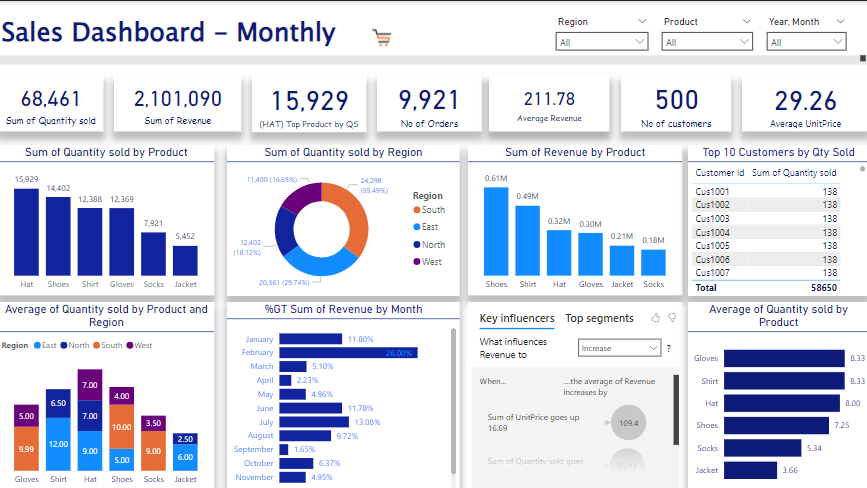

Layout of this report page (visuals, bound fields, positions):
{"tool":"powerbi","page":{"name":"Page 1","canvas":[1280,720],"ordinal":0},"visuals":[{"type":"textbox","title":"Sales Dashboard - Monthly","box":[17.6,19.1,1246,94],"z":0},{"type":"card","fields":{"Values":["Sum(Sheet1.Quantity sold)"]},"box":[17.6,113.1,248.3,107.3],"z":1000},{"type":"card","fields":{"Values":["Sum(Sheet1.Revenue)"]},"box":[288,114.6,227.8,105.8],"z":2000},{"type":"card","fields":{"Values":["CountNonNull(Sheet1.OrderID)"]},"box":[756.7,114.6,249.8,105.8],"z":3000},{"type":"clusteredColumnChart","fields":{"Category":["Sheet1.Product"],"Y":["Sum(Sheet1.Quantity sold)"]},"box":[17.6,229.2,383.5,230.7],"z":4000},{"type":"areaChart","fields":{"Category":["Sheet1.Region","Sheet1.OrderMonth.Variation.Date Hierarchy.Month","Sheet1.OrderMonth.Variation.Date Hierarchy.Day"],"Y":["Sum(Sheet1.Revenue)"]},"box":[17.6,470.2,498.1,238],"z":5000},{"type":"donutChart","fields":{"Y":["Sum(Sheet1.Quantity sold)"],"Category":["Sheet1.Region"]},"box":[423.2,229.2,396.7,230.7],"z":6000},{"type":"tableEx","title":"Top 10 Customers by Qty Sold","fields":{"Values":["Sheet1.Customer Id","Sum(Sheet1.Quantity sold)"]},"box":[953.6,470.2,310,238],"z":7000},{"type":"clusteredColumnChart","fields":{"Y":["Sum(Sheet1.Revenue)"],"Category":["Sheet1.Product"]},"box":[837.6,229.2,426.1,230.7],"z":8000},{"type":"clusteredBarChart","fields":{"Y":["Avg(Sheet1.Quantity sold)"],"Category":["Sheet1.Product"]},"box":[542.2,470.2,386.4,238],"z":9000},{"type":"slicer","fields":{"Values":["Sheet1.OrderMonth.Variation.Date Hierarchy.Year","Sheet1.OrderMonth.Variation.Date Hierarchy.Month"]},"box":[1116.7,20.6,163.1,61.7],"z":10000},{"type":"slicer","fields":{"Values":["Sheet1.Product"]},"box":[919.8,20.6,196.9,61.7],"z":12000},{"type":"card","fields":{"Values":["Sheet1.Avg Revenue per Product"]},"box":[1018.3,113.1,245.4,107.3],"z":13000},{"type":"slicer","fields":{"Values":["Sheet1.Region"]},"box":[740.6,20.6,179.3,61.7],"z":14000},{"type":"image","box":[506.9,19.1,70.5,61.7],"z":15000},{"type":"card","fields":{"Values":["Sum(Sheet1.Quantity sold)"]},"box":[529.1,114.2,211.7,105.8],"z":15001}]}

Visuals, with their boxes in screenshot pixels (x1, y1, x2, y2), scaled from the page's 1280x720 canvas onto the 867x488 screenshot:
"Sales Dashboard - Monthly" textbox: bbox(12, 13, 856, 77)
card - Sum(Sheet1.Quantity sold): bbox(12, 77, 180, 149)
card - Sum(Sheet1.Revenue): bbox(195, 78, 349, 149)
card - CountNonNull(Sheet1.OrderID): bbox(513, 78, 682, 149)
clusteredColumnChart - Sheet1.Product x Sum(Sheet1.Quantity sold): bbox(12, 155, 272, 312)
areaChart - Sheet1.Region x Sheet1.OrderMonth.Variation.Date Hierarchy.Month: bbox(12, 319, 349, 480)
donutChart - Sum(Sheet1.Quantity sold) x Sheet1.Region: bbox(287, 155, 555, 312)
"Top 10 Customers by Qty Sold" tableEx: bbox(646, 319, 856, 480)
clusteredColumnChart - Sum(Sheet1.Revenue) x Sheet1.Product: bbox(567, 155, 856, 312)
clusteredBarChart - Avg(Sheet1.Quantity sold) x Sheet1.Product: bbox(367, 319, 629, 480)
slicer - Sheet1.OrderMonth.Variation.Date Hierarchy.Year x Sheet1.OrderMonth.Variation.Date Hierarchy.Month: bbox(756, 14, 866, 56)
slicer - Sheet1.Product: bbox(623, 14, 756, 56)
card - Sheet1.Avg Revenue per Product: bbox(690, 77, 856, 149)
slicer - Sheet1.Region: bbox(502, 14, 623, 56)
image: bbox(343, 13, 391, 55)
card - Sum(Sheet1.Quantity sold): bbox(358, 77, 502, 149)
